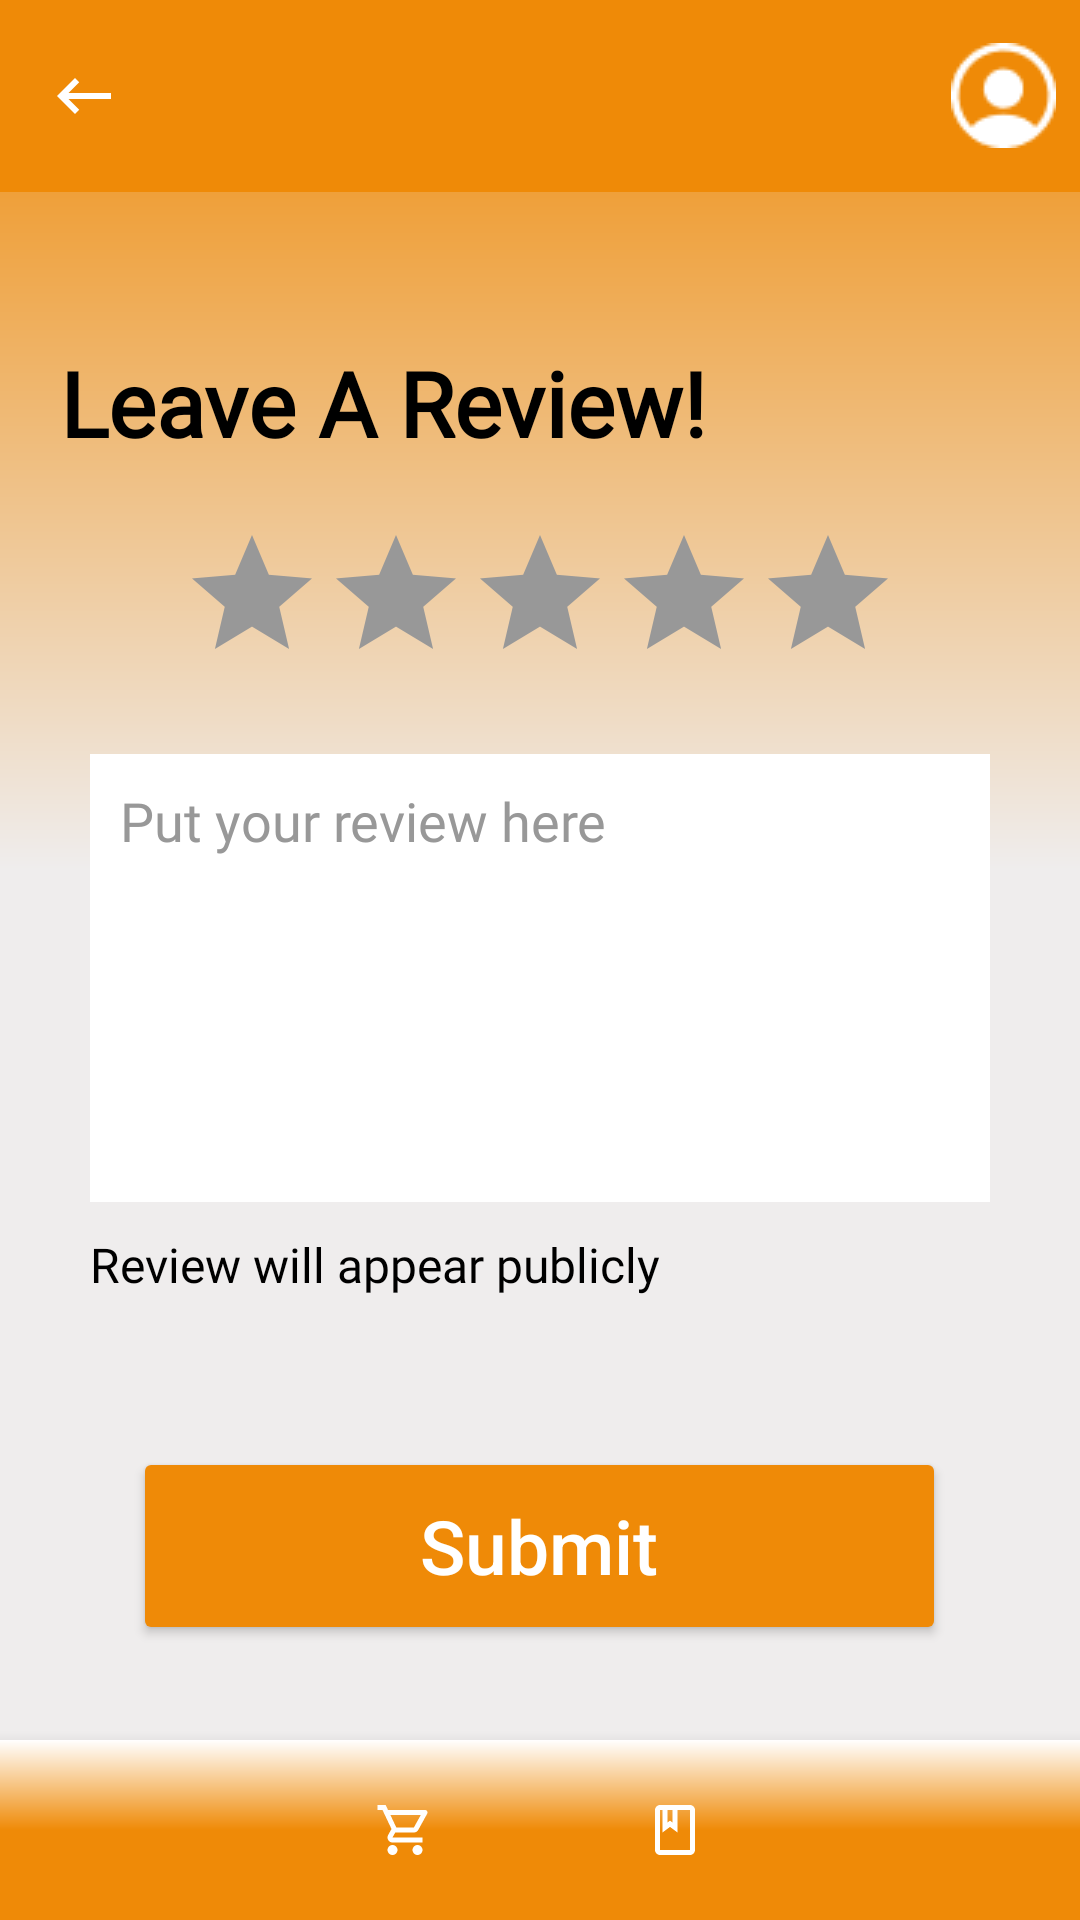

Icons on this 1080 x 1920 Android screen, each with its box as bbox=[x1, y1, x2, y2]:
back: bbox=[57, 78, 111, 114]
profile: bbox=[951, 43, 1056, 148]
